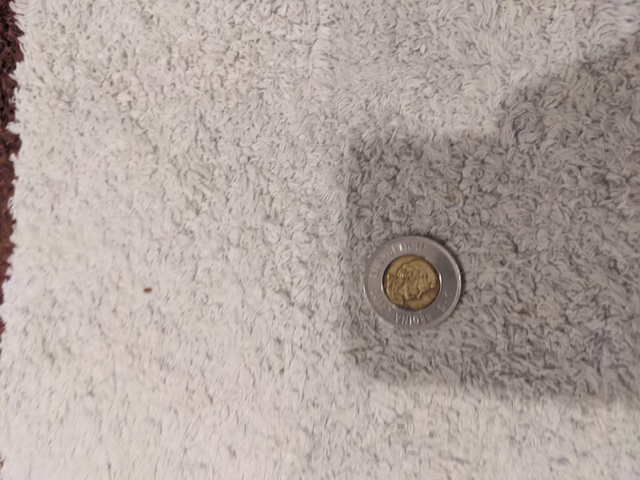twonie: (358, 228, 468, 333)
